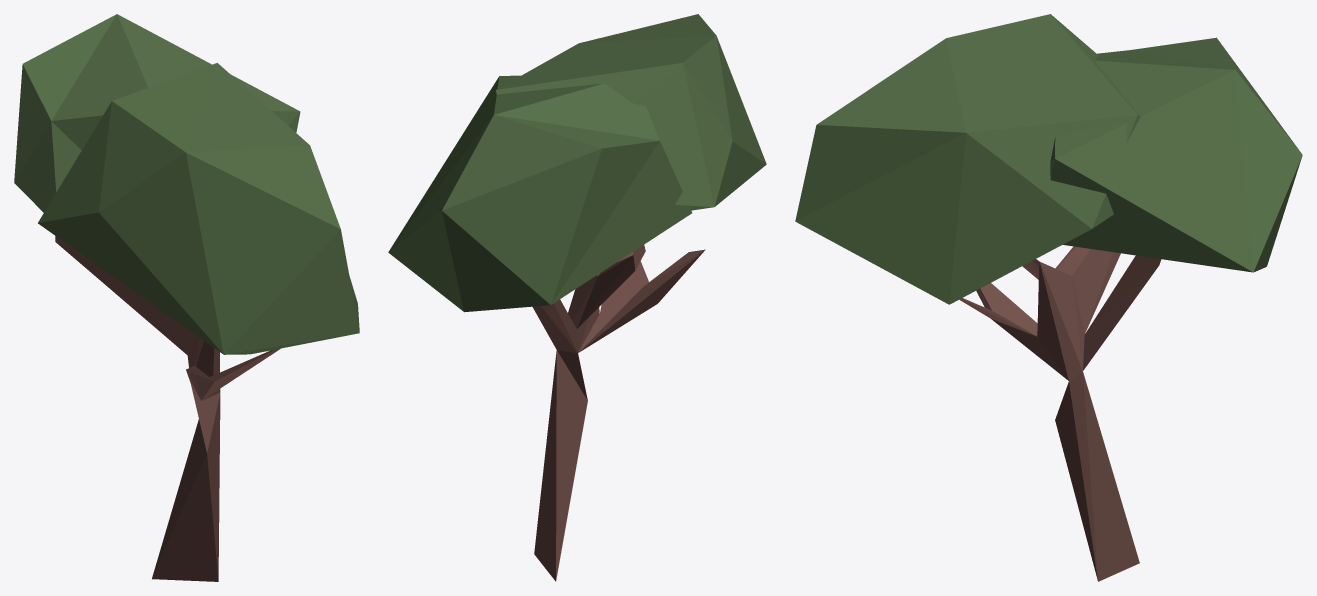
Rendered from CommonTree_5.lod3.glb.
3 views of the same model, side by side, from view 1: azimuth 30°, elevation 25°; view 2: azimuth 150°, elevation 25°; view 3: azimuth 270°, elevation 25° (orthographic). The views are drawn at different scales.
Visible parts, largest first — view 1: CommonTree_5; view 2: CommonTree_5; view 3: CommonTree_5.
Part boxes in pixels (<box>): CommonTree_5: <box>14,14,359,581</box>; CommonTree_5: <box>388,14,766,581</box>; CommonTree_5: <box>795,14,1302,581</box>.
Size of the model in its own units: 1.3 by 2.5 by 2.26.
